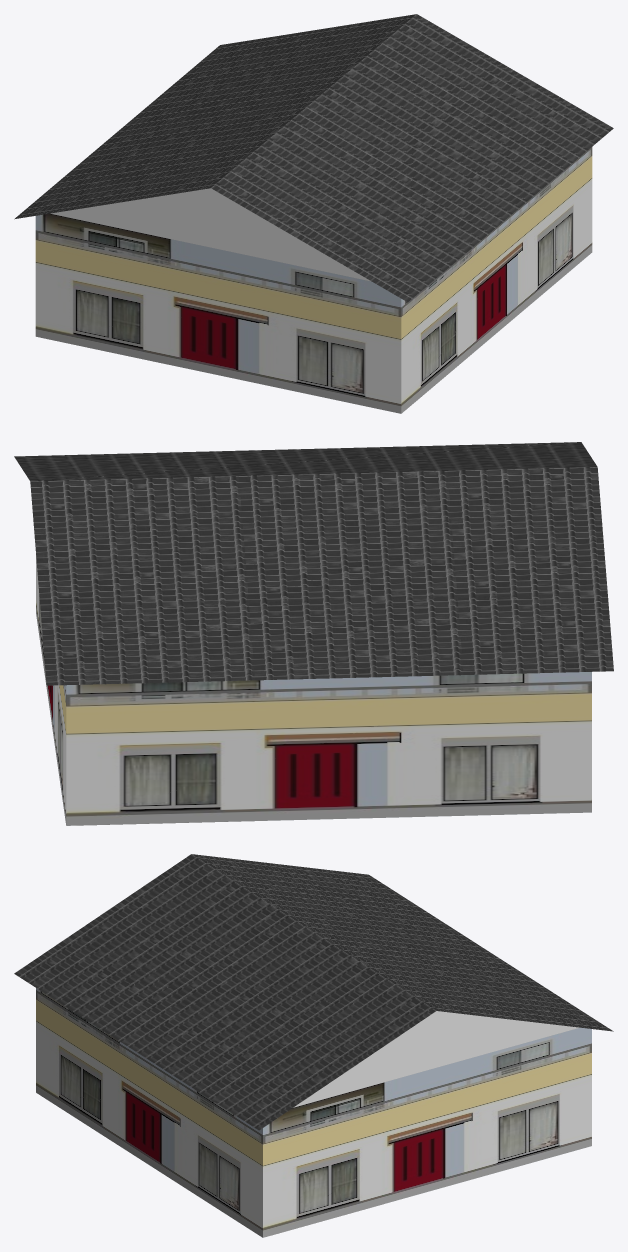
The picture shows the model from 3 angles, top to bottom: view 1: azimuth 30°, elevation 25°; view 2: azimuth 150°, elevation 25°; view 3: azimuth 270°, elevation 25°; orthographic projection. The views are drawn at different scales.
Visible parts, largest first — view 1: CityEngineMaterial_16_m, CityEngineMaterial_15_m, CityEngineMaterial_3_m; view 2: CityEngineMaterial_16_m, CityEngineMaterial_15_m; view 3: CityEngineMaterial_16_m, CityEngineMaterial_15_m, CityEngineMaterial_3_m.
Part boxes in pixels (x1=…): CityEngineMaterial_16_m: x1=14, y1=14, x2=613, y2=302; CityEngineMaterial_15_m: x1=35, y1=147, x2=592, y2=413; CityEngineMaterial_3_m: x1=51, y1=188, x2=370, y2=281; CityEngineMaterial_16_m: x1=14, y1=442, x2=613, y2=685; CityEngineMaterial_15_m: x1=36, y1=555, x2=591, y2=825; CityEngineMaterial_16_m: x1=14, y1=854, x2=613, y2=1130; CityEngineMaterial_15_m: x1=36, y1=988, x2=591, y2=1237; CityEngineMaterial_3_m: x1=293, y1=1011, x2=579, y2=1107.
Bounding box in the file's own units: 37.03 × 12.6 × 36.69.
